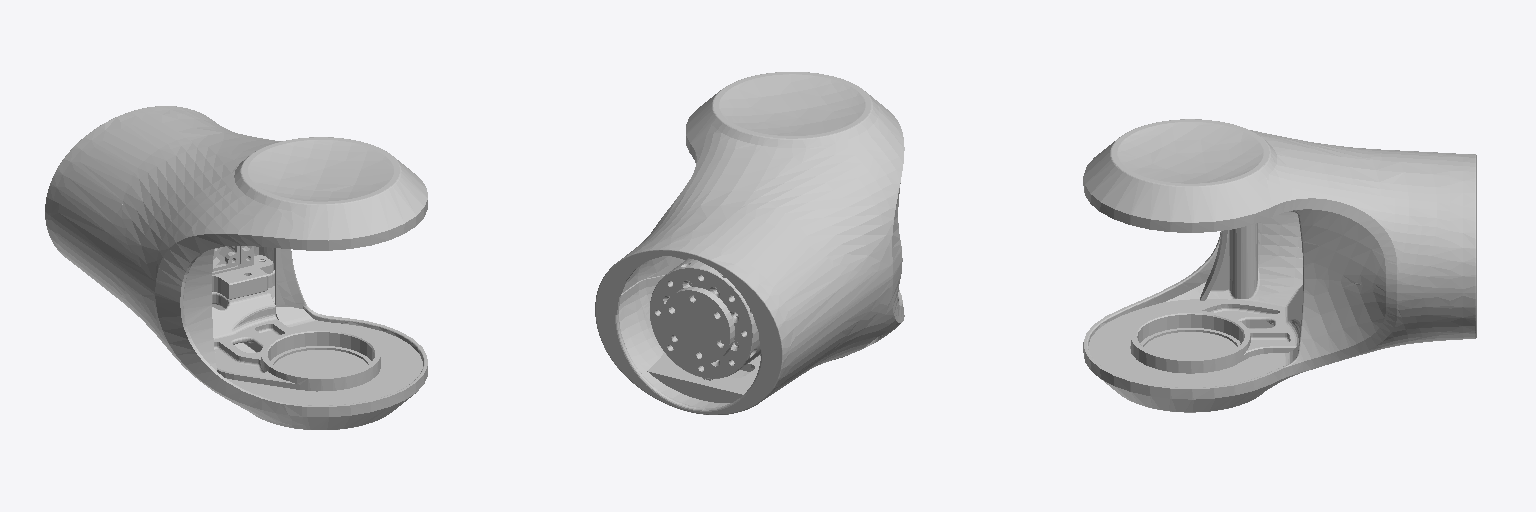
Rendered from l_foream.obj.
3 views of the same model, side by side, from view 1: azimuth 30°, elevation 25°; view 2: azimuth 150°, elevation 25°; view 3: azimuth 270°, elevation 25° (orthographic).
Visible parts, largest first — view 1: obj1; view 2: obj1; view 3: obj1.
Boxes of the visible parts, <box> form: obj1: <box>45,106,427,429</box>; obj1: <box>595,72,904,414</box>; obj1: <box>1083,119,1476,412</box>.
Size of the model in its own units: 0.1151 by 0.11 by 0.1732.